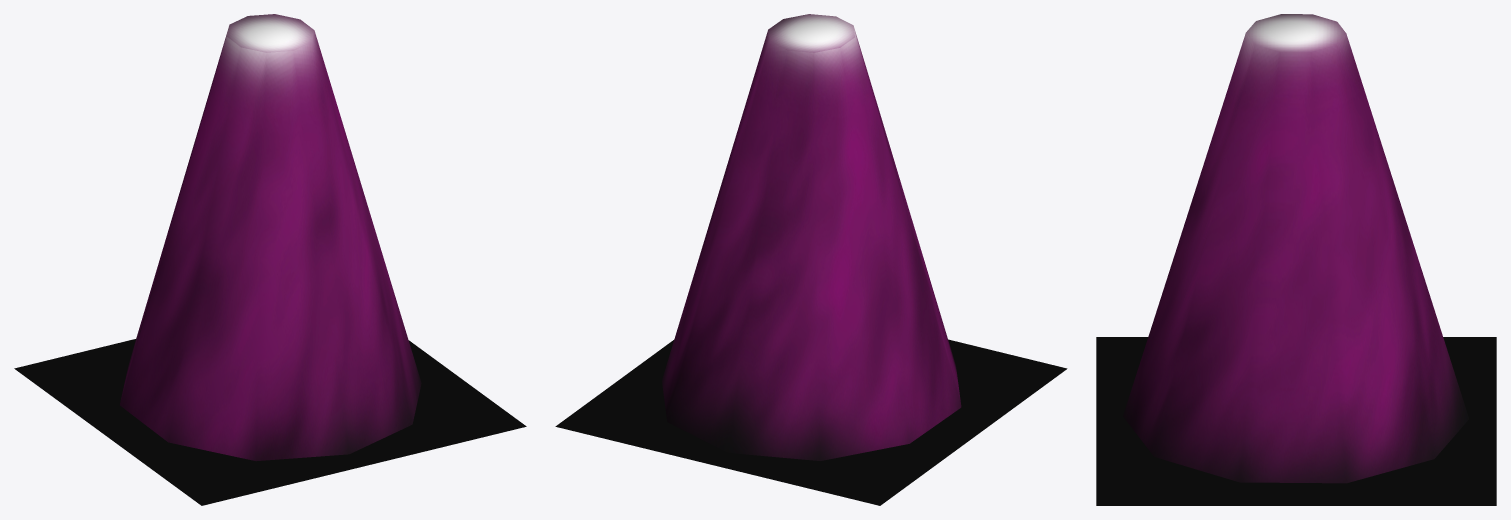
The model's file is test strom 3.fbx.
The picture shows the model from 3 angles, left to right: view 1: azimuth 30°, elevation 25°; view 2: azimuth 150°, elevation 25°; view 3: azimuth 270°, elevation 25°; orthographic projection. The views are drawn at different scales.
Parts seen in each view (by area): view 1: buitenste_laag, Plane; view 2: buitenste_laag, Plane; view 3: buitenste_laag, Plane.
Part boxes in pixels (x1,y1,x2,y2): buitenste_laag: (120, 14, 421, 461); Plane: (14, 339, 526, 505); buitenste_laag: (662, 14, 961, 460); Plane: (555, 339, 1067, 505); buitenste_laag: (1123, 14, 1469, 483); Plane: (1096, 337, 1496, 505).
Size of the model in its own units: 38073 by 40759 by 38073.
Materials: 3 (3 with a texture image).
